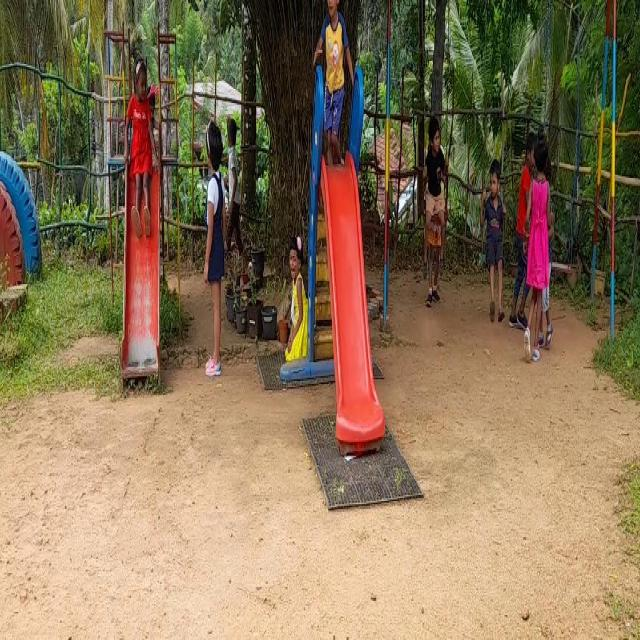child: (195, 115, 230, 382), (482, 152, 509, 324), (130, 50, 154, 236), (532, 134, 550, 364), (321, 0, 348, 148), (426, 102, 446, 299)
